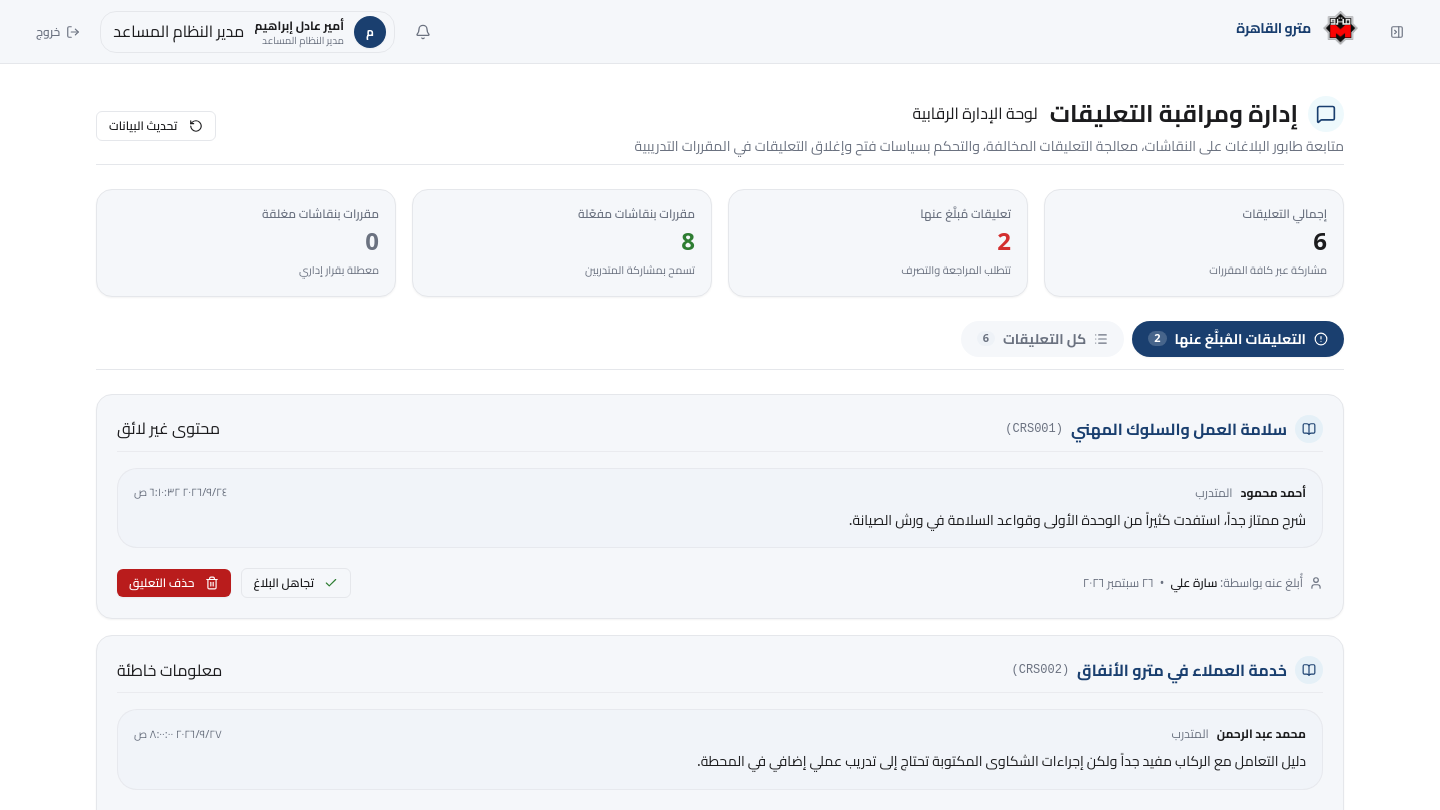
Test: Increment 11 — Phase 5B: Administrative Comment Moderation UI & Workflows › 4. Dual-Control Approval Governance & Assistant Administrator › intercepts Assistant Administrator deletion without delegation: returns 202 and keeps comment visible
Click the button with test id "delete-comment-btn-CMT001" at (174, 583), box [117,569,230,597]
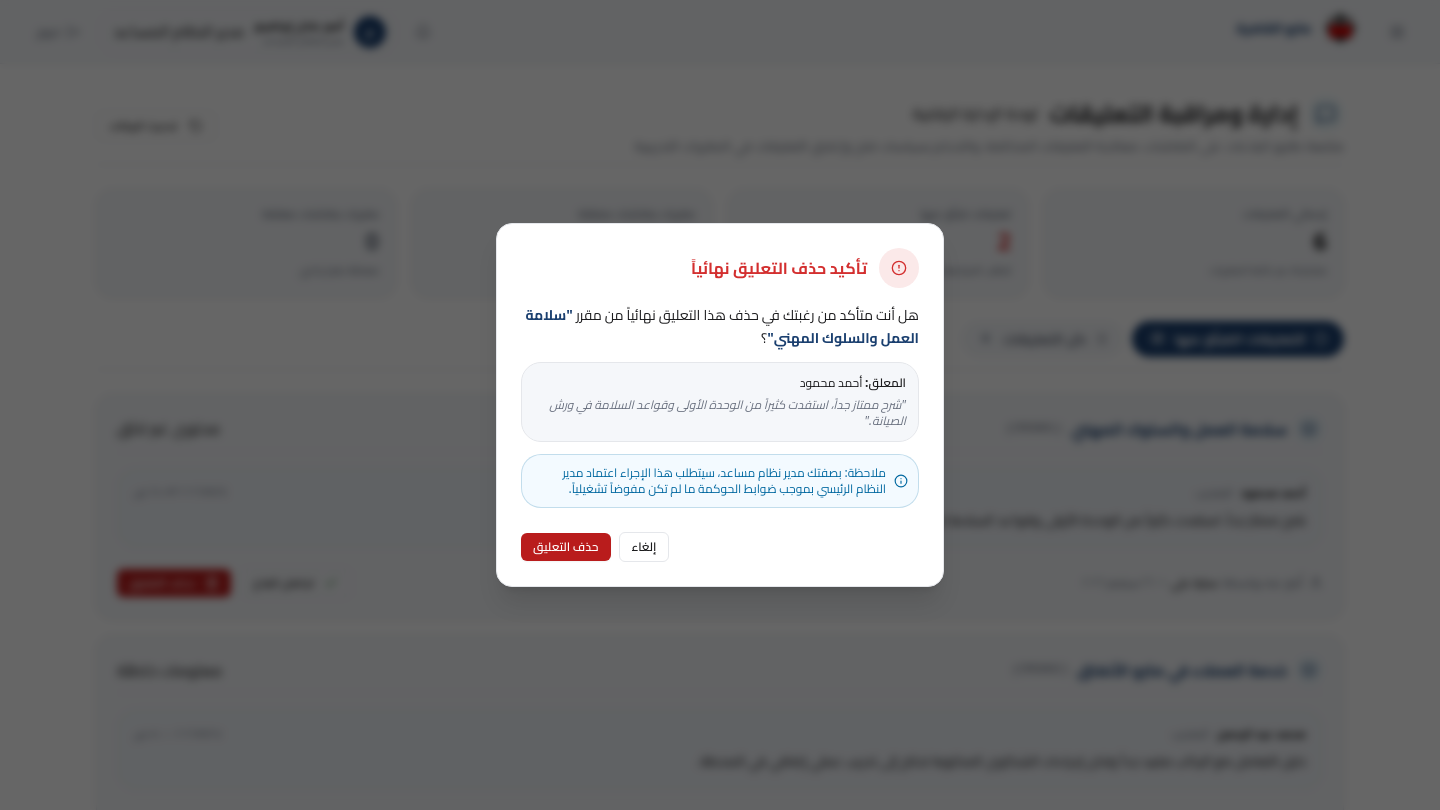
Check: the dialog with test id "confirm-delete-comment-dialog" is shown
Check: the text "سيتطلب هذا الإجراء اعتماد مدير النظام الرئيسي" is shown, box [562,461,886,500]
Click the button with test id "confirm-delete-action-btn" at (566, 547), box [521,533,610,561]
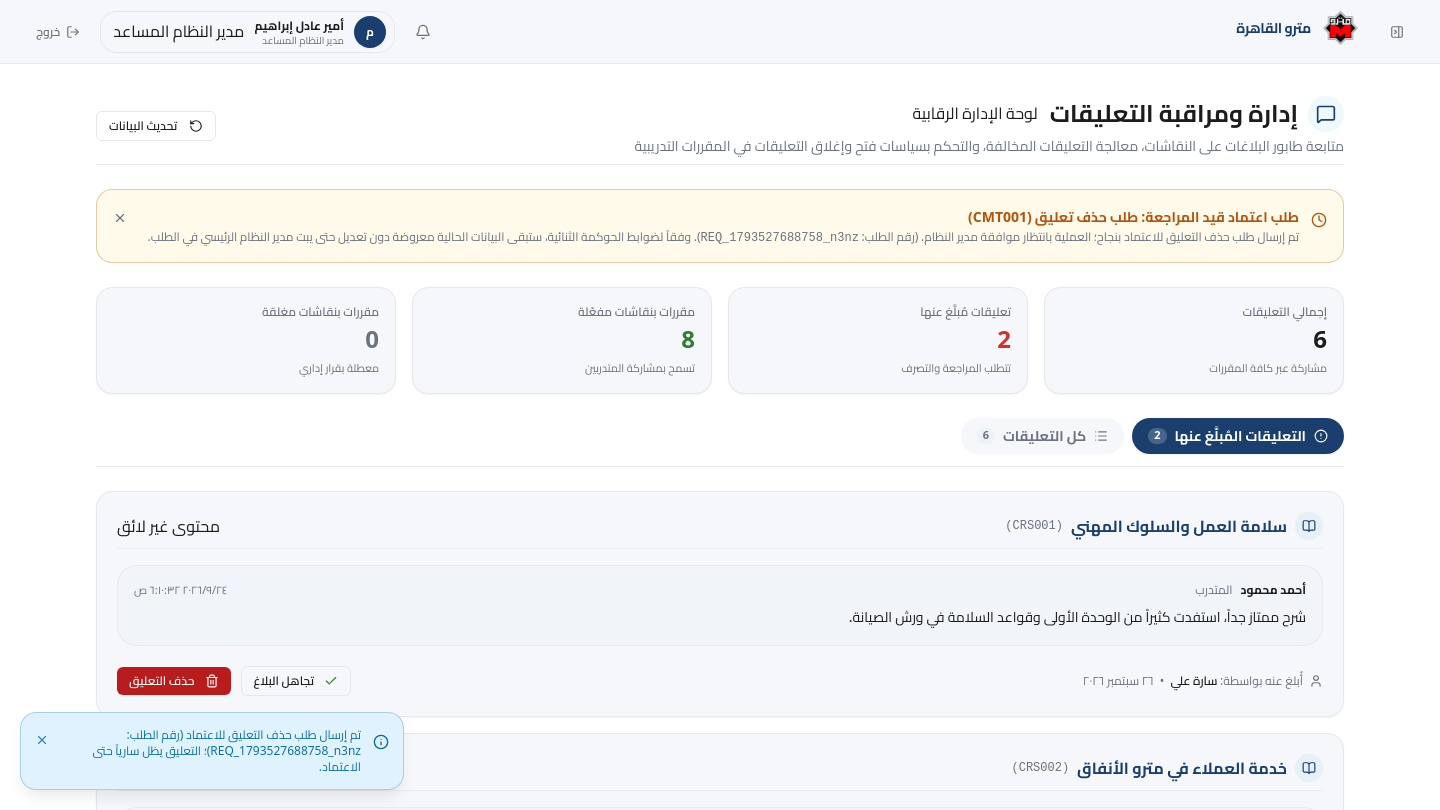
Check: the element with test id "reported-comment-card-CMT001" is shown, box [96,491,1344,717]
Check: the element with test id "pending-approval-notice-banner" is shown, box [96,189,1344,263]
Check: the text "طلب اعتماد قيد المراجعة: طلب حذف تعليق (CMT001)" is shown, box [968,204,1299,230]
